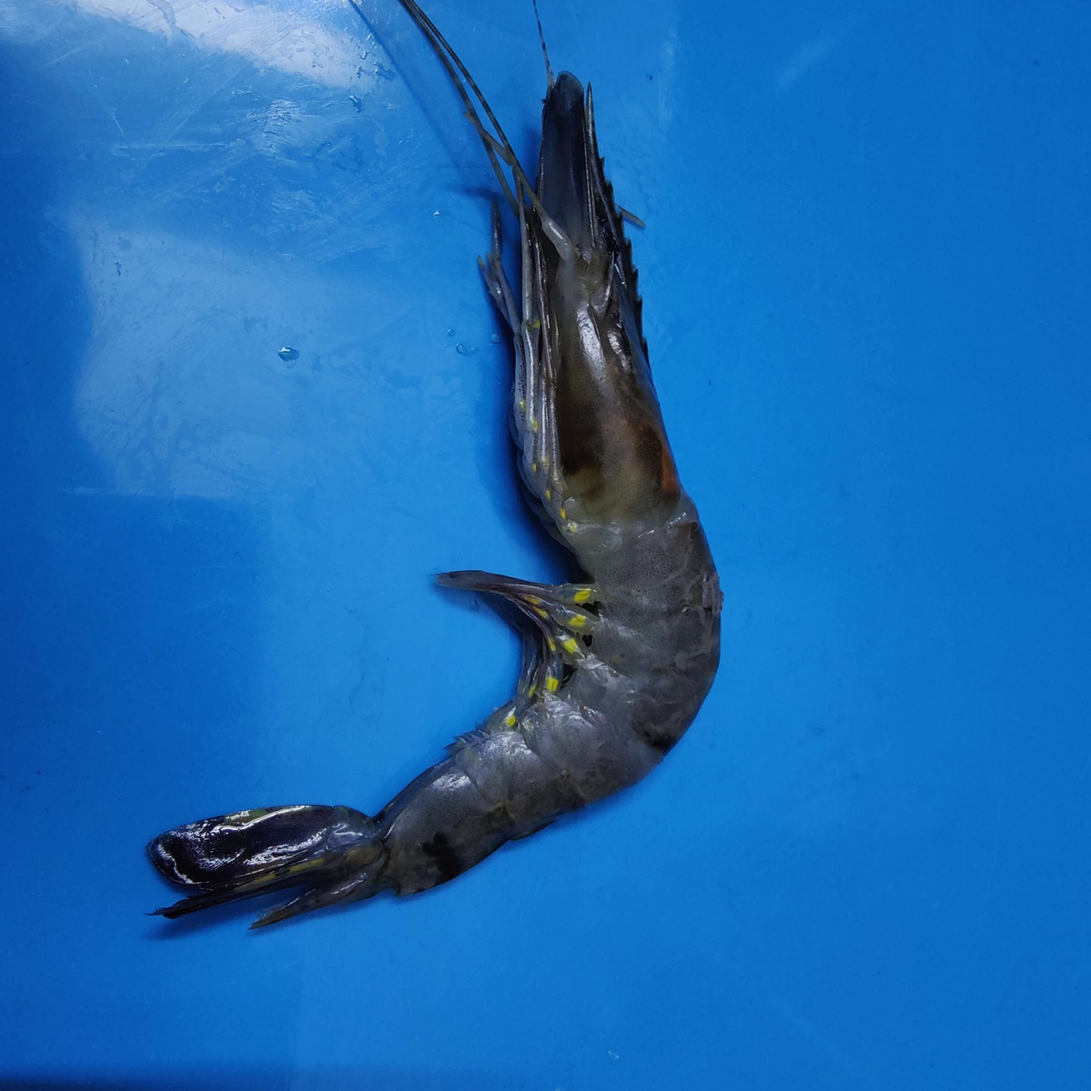blackgill: (551, 354, 605, 508)
